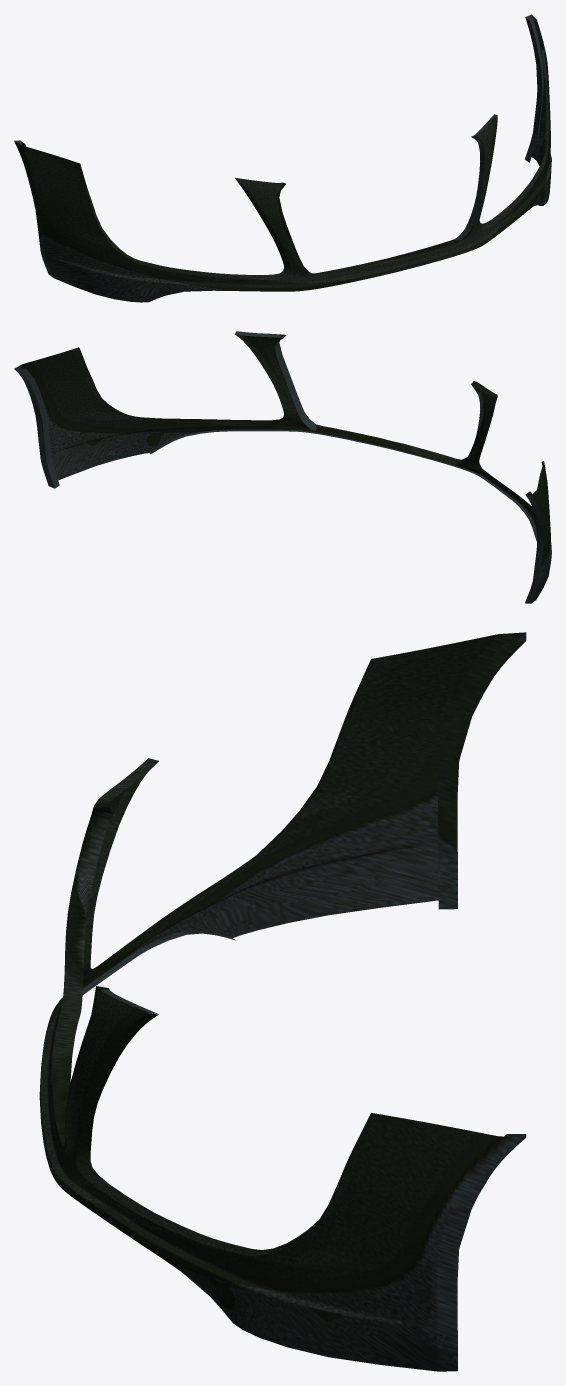
Rendered from Parrilla.obj.
3 views of the same model, one above another, from view 1: azimuth 30°, elevation 25°; view 2: azimuth 150°, elevation 25°; view 3: azimuth 270°, elevation 25° (orthographic). The views are drawn at different scales.
Visible parts, largest first — view 1: Parrilla; view 2: Parrilla; view 3: Parrilla.
Boxes of the visible parts, x1,y1,x2,y2 form: Parrilla: (14, 14, 551, 302); Parrilla: (14, 331, 551, 603); Parrilla: (39, 632, 526, 1371).
Size of the model in its own units: 16.88 by 3.95 by 6.87.
